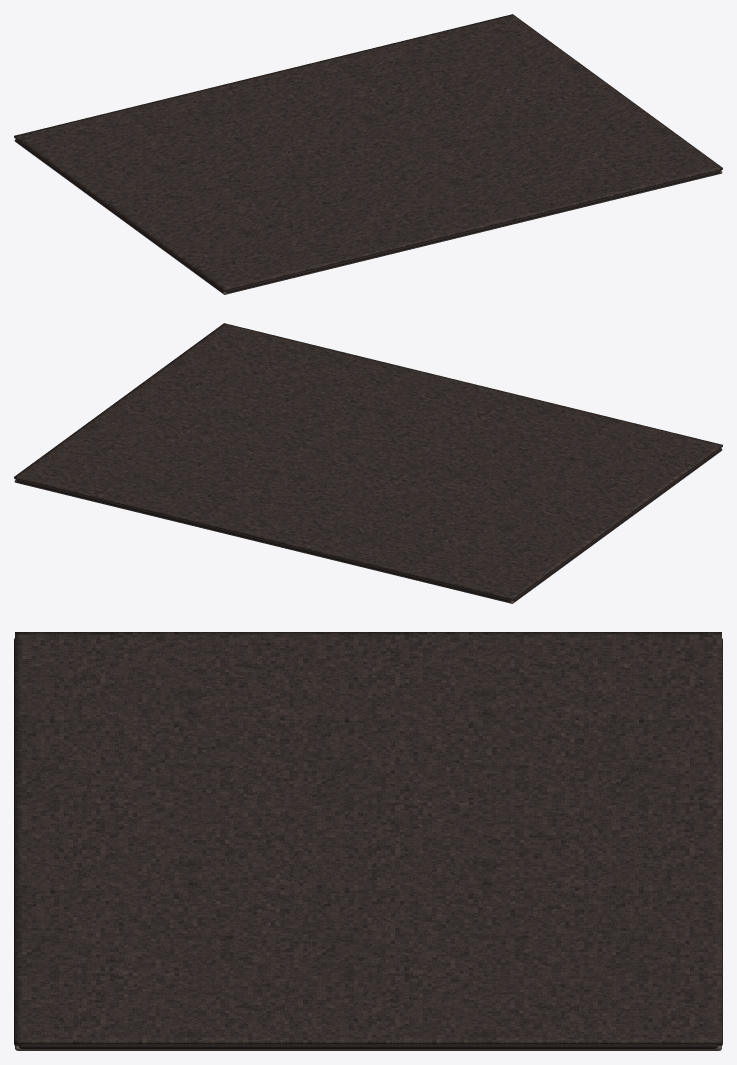
The model's file is wool-rug.glb.
3 renders of one model, top to bottom at view 1: azimuth 30°, elevation 25°; view 2: azimuth 150°, elevation 25°; view 3: azimuth 270°, elevation 25°, orthographic. The views are drawn at different scales.
Parts seen in each view (by area): view 1: Hand tufted pile surface, Rug bound long edge.001, Rug flexible woven backing, Rug bound short edge; view 2: Hand tufted pile surface, Rug bound long edge, Rug flexible woven backing, Rug bound short edge; view 3: Hand tufted pile surface, Rug bound short edge.001, Rug flexible woven backing.
Boxes of the visible parts, box(x1,y1,x2,y2) form: Hand tufted pile surface: box(14, 14, 722, 291); Rug bound long edge.001: box(225, 170, 720, 292); Rug flexible woven backing: box(14, 139, 722, 294); Rug bound short edge: box(15, 139, 224, 292); Hand tufted pile surface: box(14, 323, 722, 600); Rug bound long edge: box(16, 479, 511, 601); Rug flexible woven backing: box(14, 449, 722, 603); Rug bound short edge: box(512, 448, 721, 601); Hand tufted pile surface: box(15, 632, 721, 1044); Rug bound short edge.001: box(18, 1044, 718, 1048); Rug flexible woven backing: box(15, 1045, 721, 1050).
Bounding box in the file's own units: 4.19 × 0.057 × 3.06.
3 materials, 2 textured.
